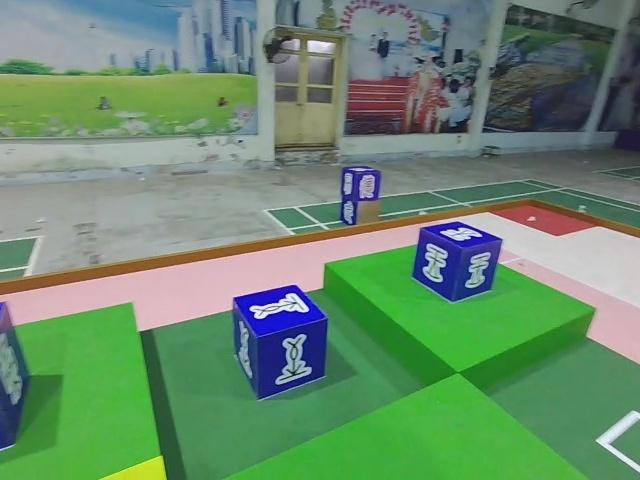R2 Fake Blue: (341, 164, 382, 203)
R2 Real Blue: (232, 285, 330, 401), (410, 223, 502, 305), (0, 302, 32, 469)
